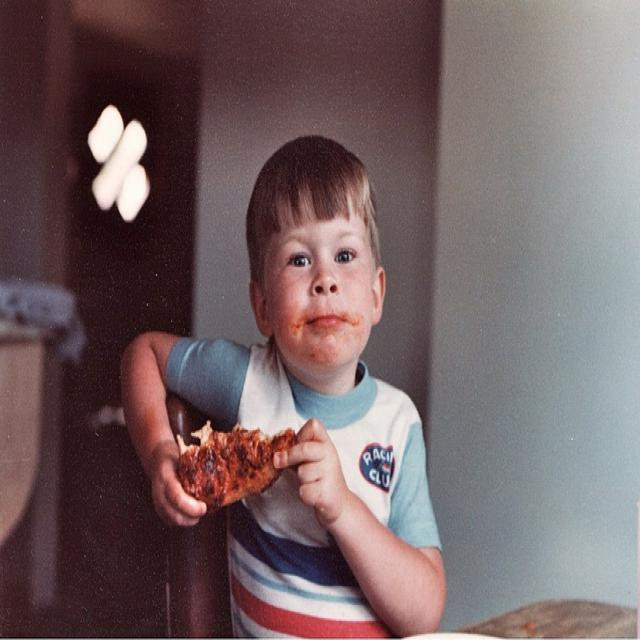chair: (161, 388, 234, 640)
dining table: (457, 597, 639, 640)
